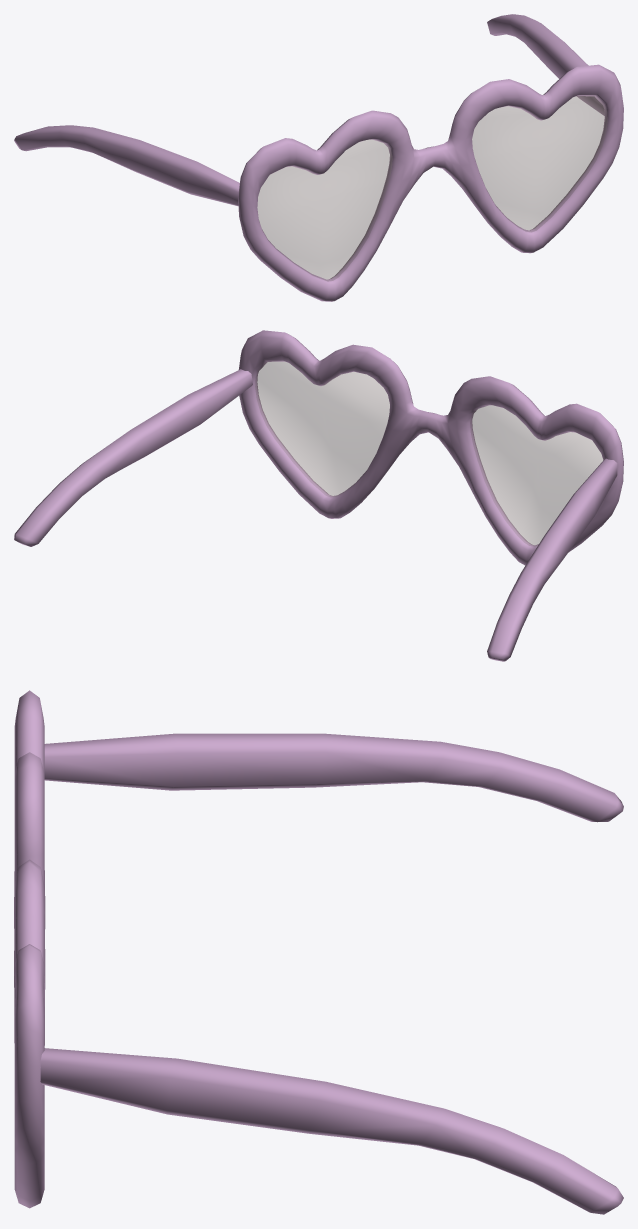
3 views of the same model, one above another, from view 1: azimuth 30°, elevation 25°; view 2: azimuth 150°, elevation 25°; view 3: azimuth 270°, elevation 25° (orthographic). The views are drawn at different scales.
Visible parts, largest first — view 1: glassesHeart; view 2: glassesHeart; view 3: glassesHeart.
Part boxes in pixels (x1,y1,x2,y2): glassesHeart: [14, 14, 623, 301]; glassesHeart: [14, 330, 623, 661]; glassesHeart: [14, 690, 623, 1214].
Size of the model in its own units: 0.4873 by 0.1716 by 0.3071.
2 materials, 1 textured.
